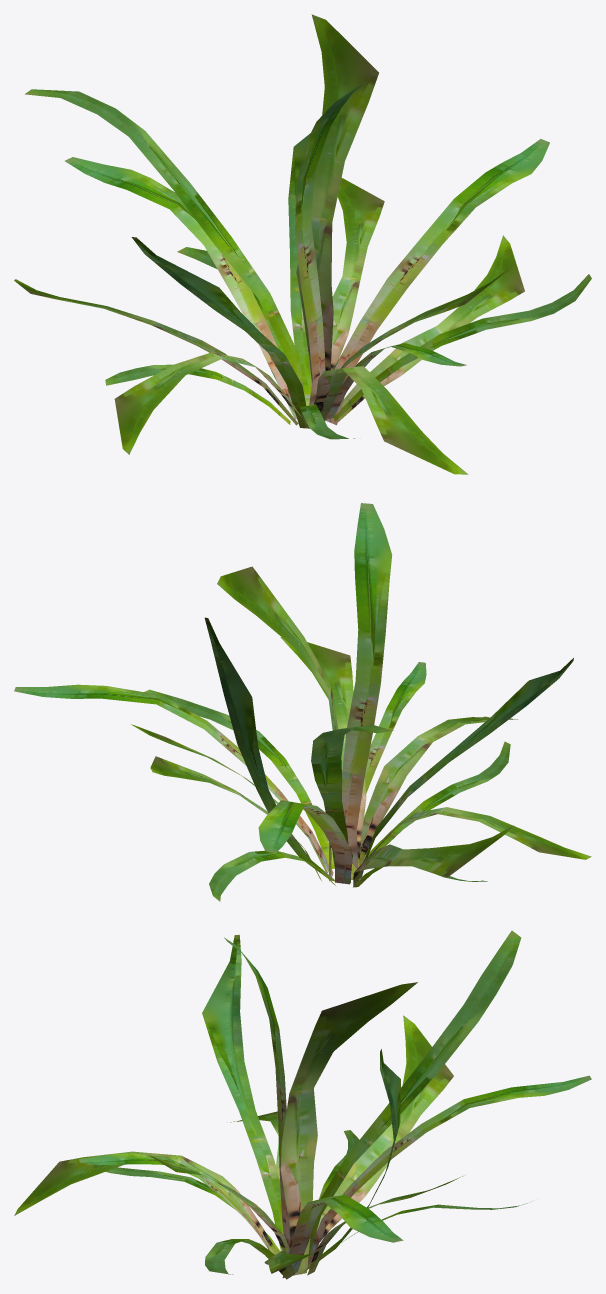
Rendered from Herb Plant Variant 1.fbx.
The picture shows the model from 3 angles, top to bottom: view 1: azimuth 30°, elevation 25°; view 2: azimuth 150°, elevation 25°; view 3: azimuth 270°, elevation 25°; orthographic projection. The views are drawn at different scales.
Parts seen in each view (by area): view 1: Herb_Plant_Atlas_01_LOD0; view 2: Herb_Plant_Atlas_01_LOD0; view 3: Herb_Plant_Atlas_01_LOD0.
Boxes of the visible parts, box(x1,y1,x2,y2) form: Herb_Plant_Atlas_01_LOD0: box(14, 14, 591, 474); Herb_Plant_Atlas_01_LOD0: box(14, 503, 591, 901); Herb_Plant_Atlas_01_LOD0: box(14, 930, 591, 1279).
Size of what is drawn, in the model's own units: 59.62 by 39.4 by 61.19.
1 material, 1 textured.
